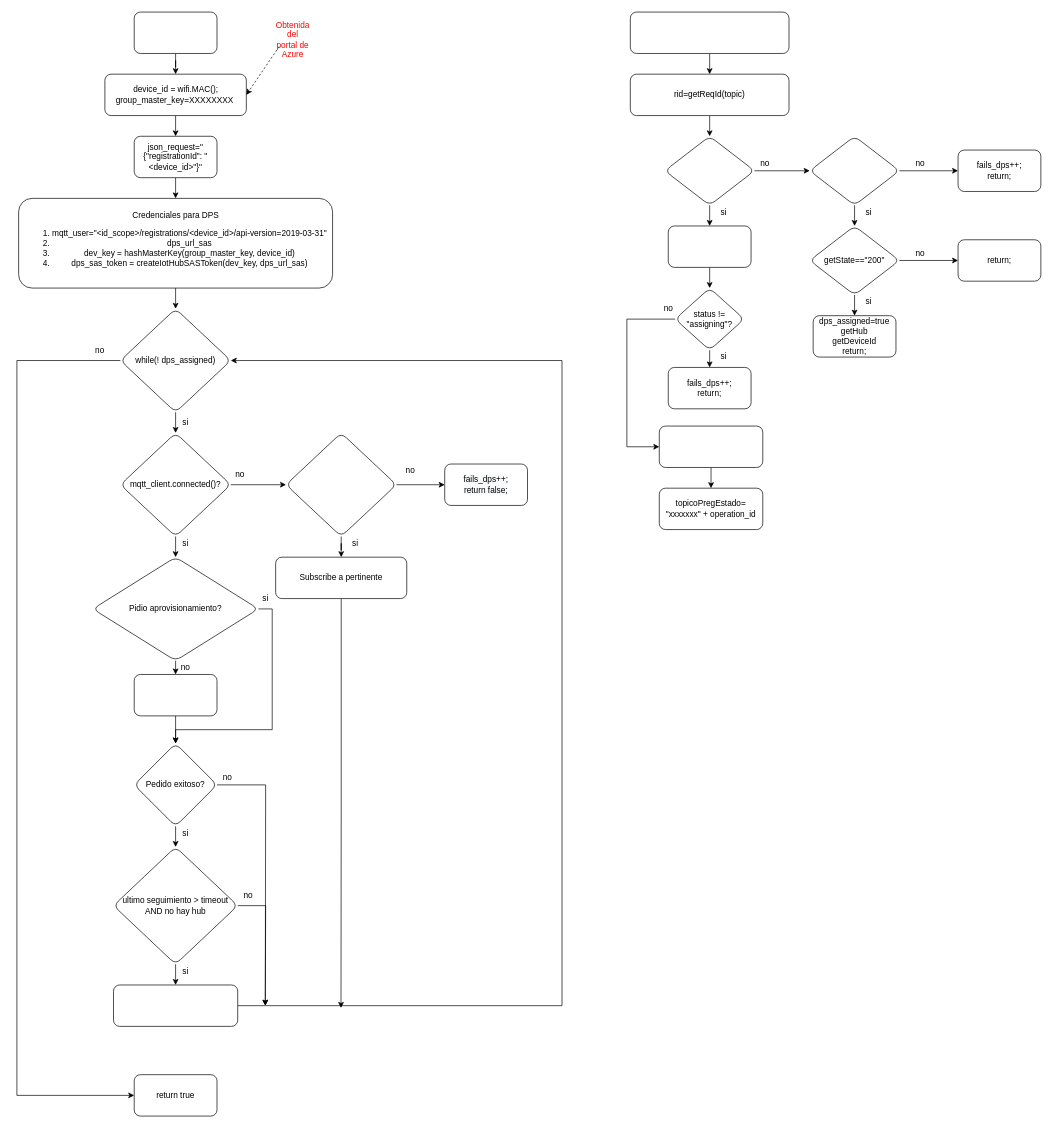
This 1053x1128 diagram has some shape labels left out. Each missing label, with the centre of its shape:
Aprovisionamiento: point 175,32
DPScallback(topic, payload): point 709,32
Es respuesta del primer pedido; status = getStatus: point 709,246
mqtt_client.connect(DPS)?: point 340,484
Pedido exitoso = true operation_id = getOpId: point 711,446
publica pedido de aprovisionamiento con rid=RID_A req_sent=true: point 175,695
publis(topicoPregEstado) con rid = RID_B: point 175,1005
rid==RID_A?: point 709,170
rid==RID_B?: point 854,170
